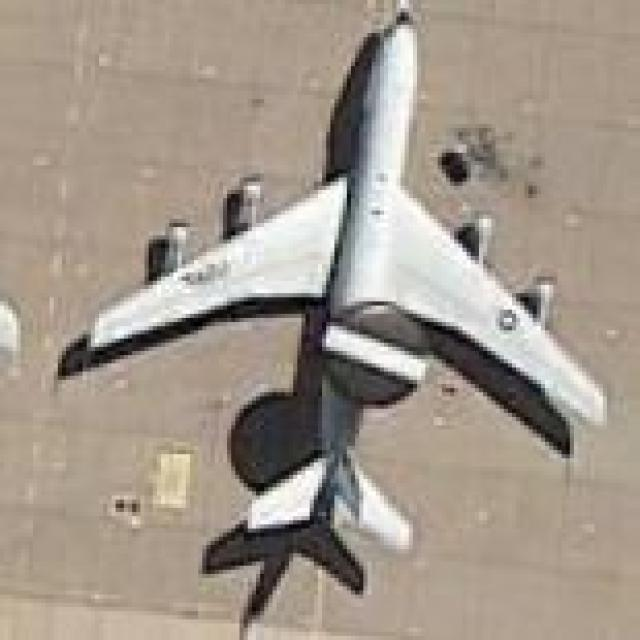E-3_TopDown: (50, 0, 607, 636)
